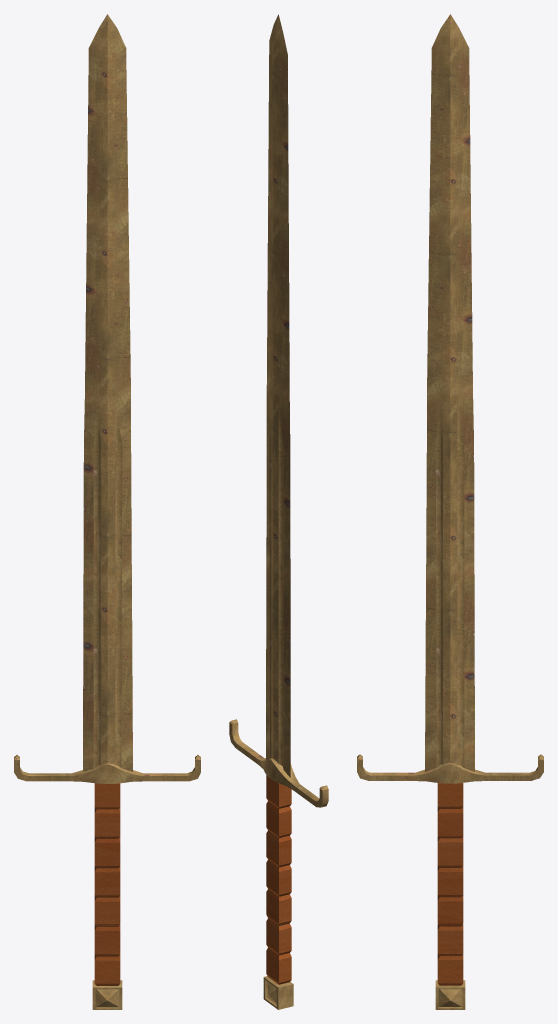
Rendered from broadsword.gltf.
3 views of the same model, side by side, from view 1: azimuth 90°, elevation 25°; view 2: azimuth 210°, elevation 25°; view 3: azimuth 270°, elevation 25° (orthographic).
Parts seen in each view (by area): view 1: blade, Handle, Hilt, Pommel; view 2: blade, Handle, Hilt, Pommel; view 3: blade, Handle, Hilt, Pommel.
Boxes of the visible parts, x1,y1,x2,y2 form: blade: [83, 14, 132, 771]; Handle: [94, 783, 120, 985]; Hilt: [14, 755, 200, 783]; Pommel: [92, 980, 122, 1009]; blade: [266, 14, 290, 777]; Handle: [266, 775, 291, 984]; Hilt: [229, 719, 328, 807]; Pommel: [263, 976, 293, 1009]; blade: [425, 14, 474, 771]; Handle: [437, 783, 463, 985]; Hilt: [357, 754, 543, 783]; Pommel: [435, 980, 465, 1009].
Size of the model in its own units: 0.024 by 1.11 by 0.19.
3 materials, 3 textured.
